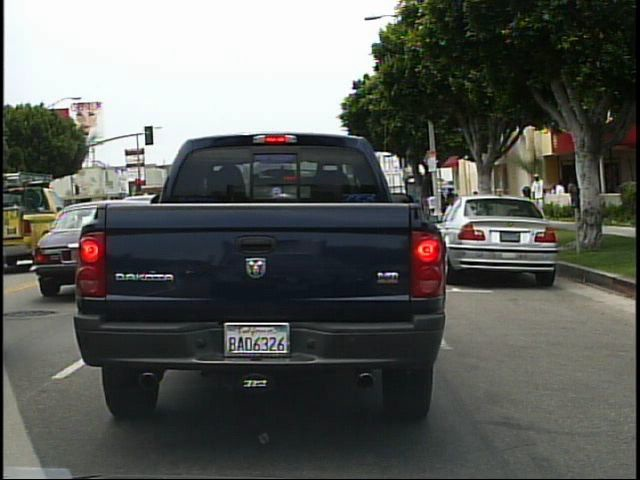person: (530, 167, 553, 218), (550, 176, 571, 222), (566, 175, 585, 217), (444, 184, 461, 220)
